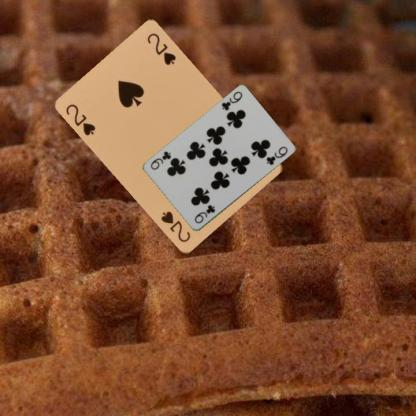2s: (64, 101, 97, 137)
9c: (219, 89, 244, 112), (192, 202, 216, 225)
